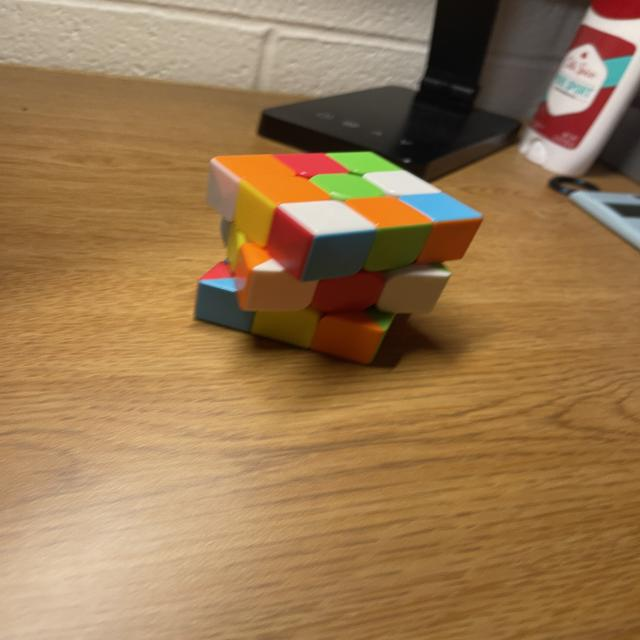Rubiks Cube: (194, 152, 481, 363)
